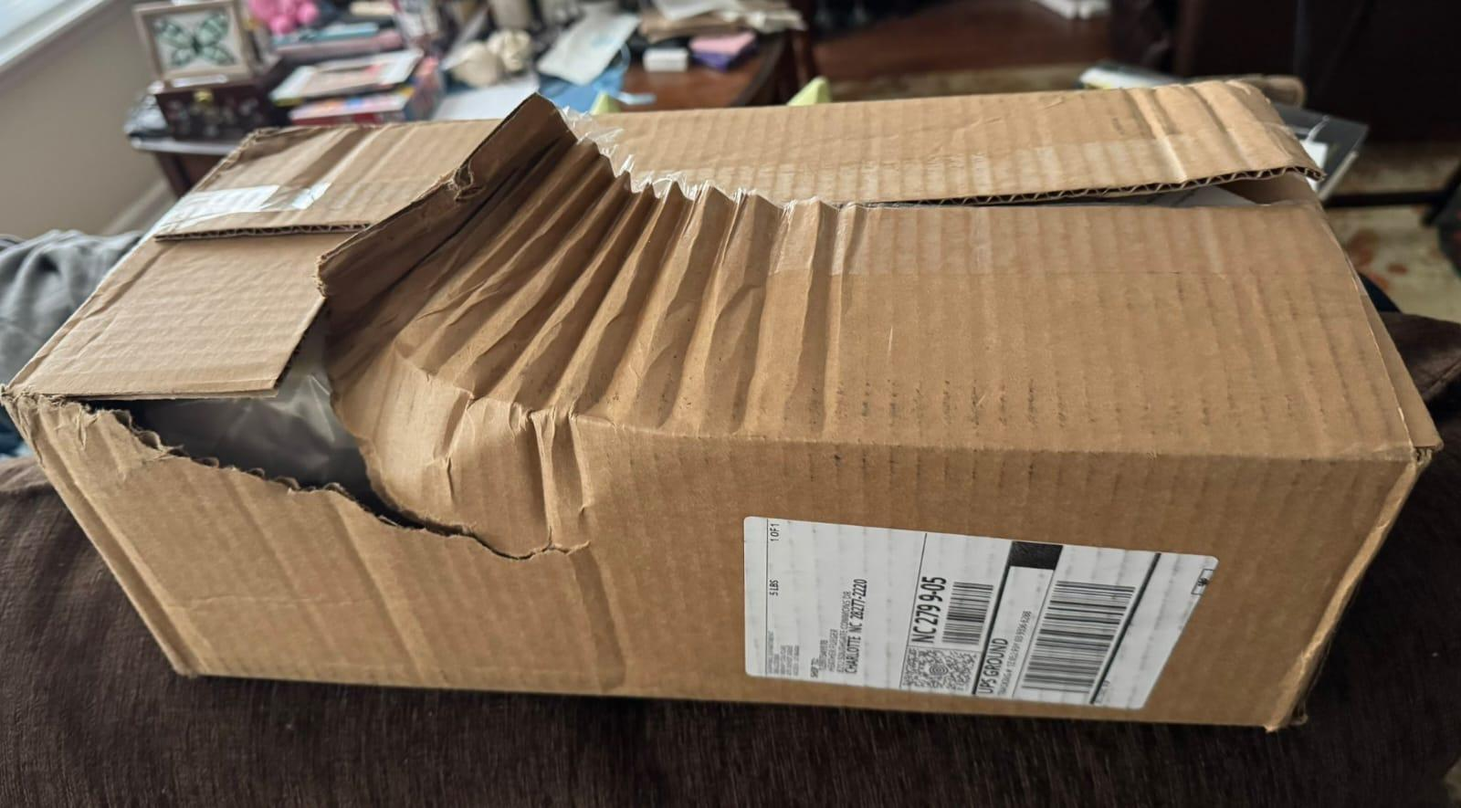damaged package: (33, 175, 596, 569), (899, 165, 1327, 217)
undamaged: (0, 61, 1454, 753)
